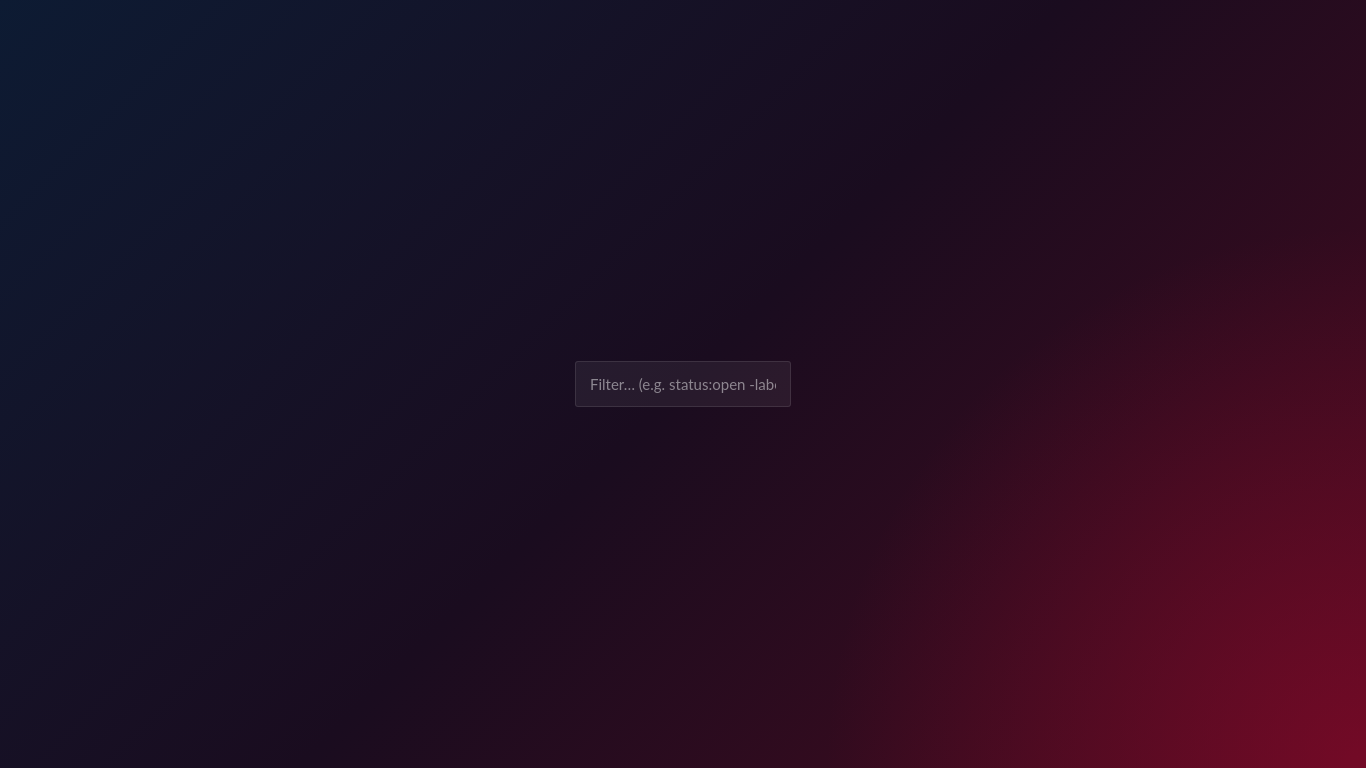
Test: FilterBar › loads async value options
Type "user:an" into the dropdown labelled "Filter" at {"x": 683, "y": 384}, box [590,372,776,396]
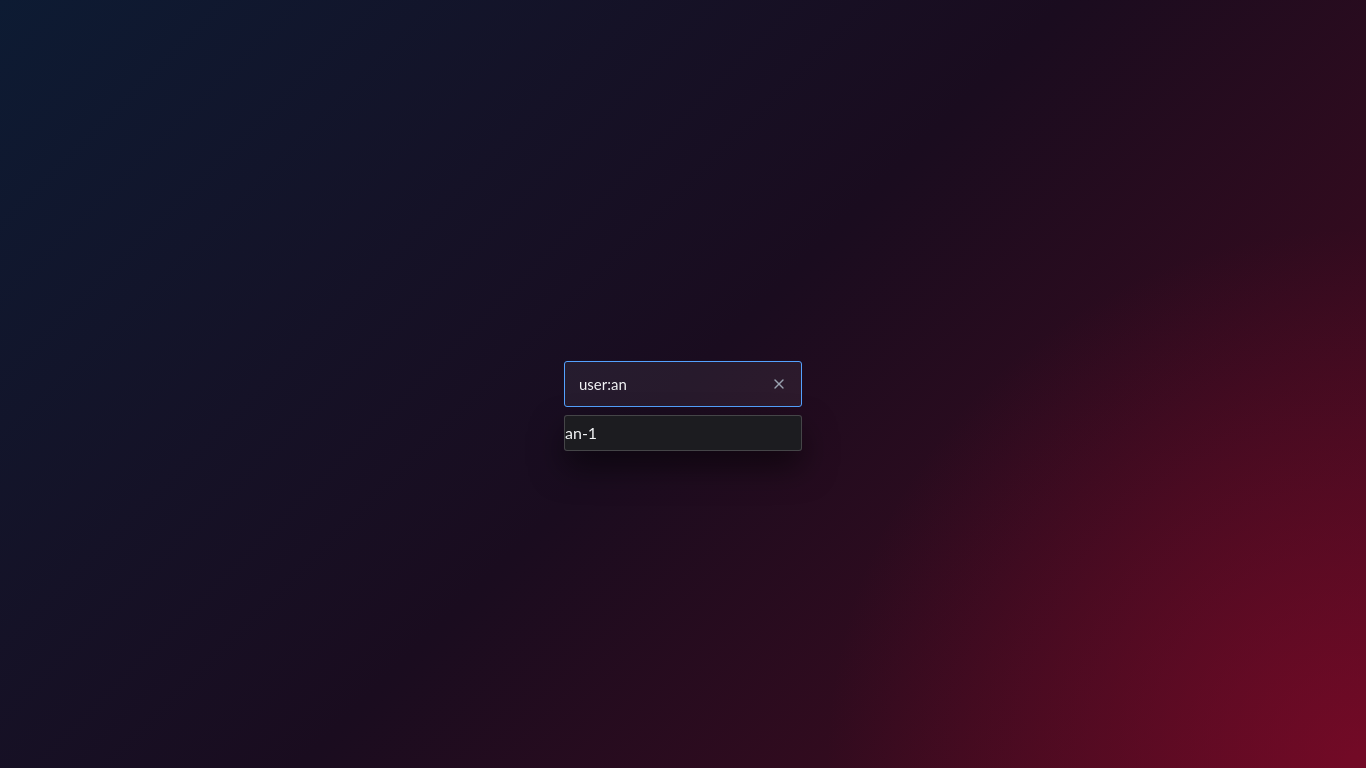
Result: the option "an-1" is shown at [565,423,597,442]
